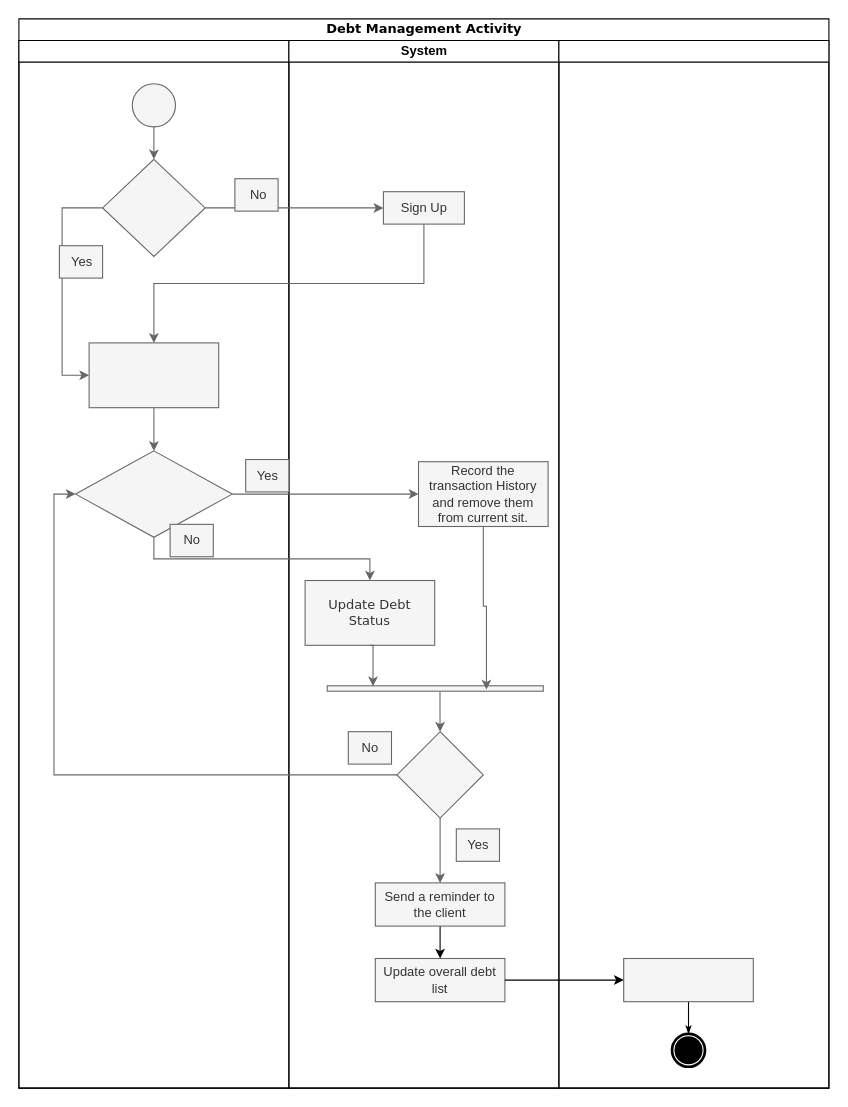
Image size: 848x1107. Some labels were removed from this diagram. The box of each missing label's shape, as (x1, y1, x2, y2) in pixels:
Add Clients to the Debt List: (88, 342, 219, 408)
Check Debt Status: (623, 957, 753, 1002)
Client: (558, 39, 829, 1088)
Debt Overdue?: (396, 731, 483, 818)
Did they pay the Remaining amount in full?: (75, 450, 232, 537)
Is the debted client Signed In?: (102, 158, 205, 256)
Owner: (18, 39, 289, 1088)
